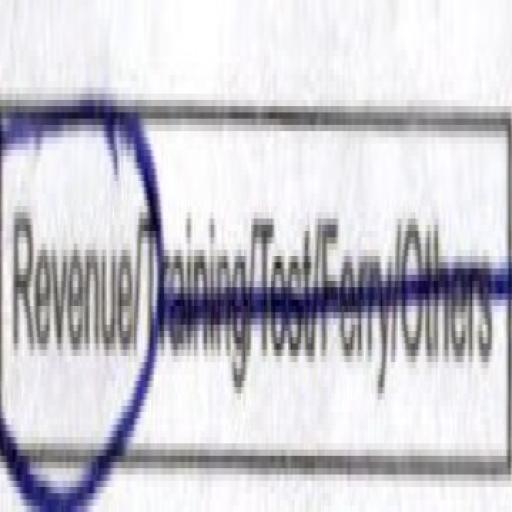check: (0, 18, 140, 512)
